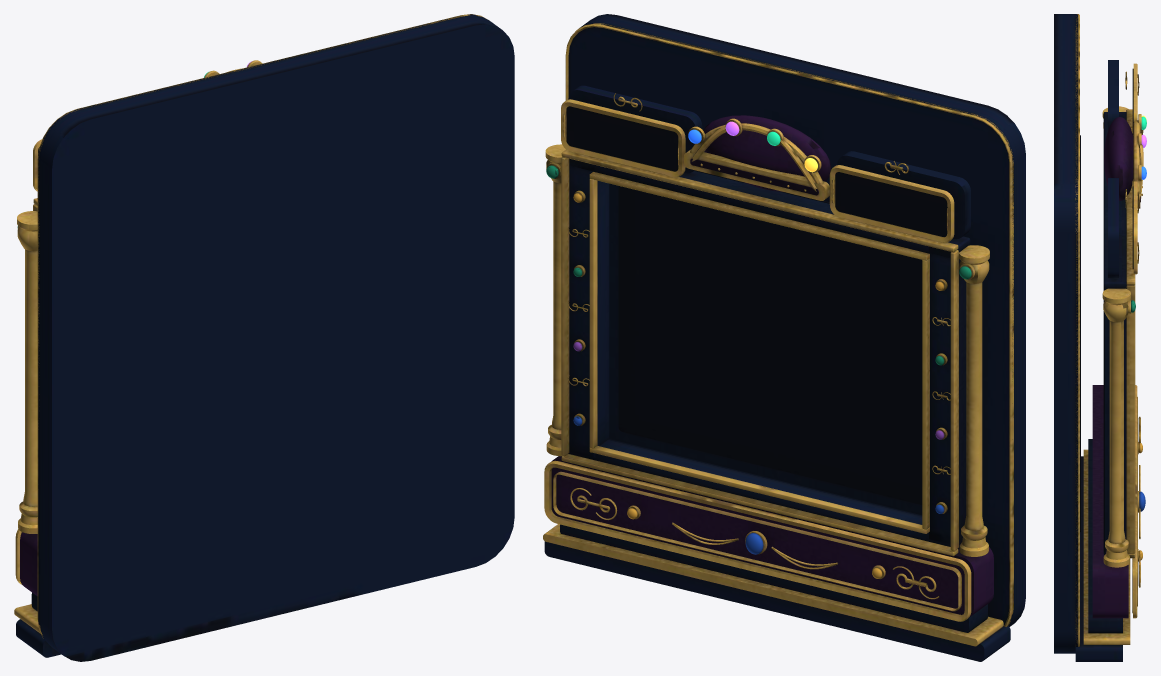
3 renders of one model, left to right at view 1: azimuth 30°, elevation 25°; view 2: azimuth 150°, elevation 25°; view 3: azimuth 270°, elevation 25°, orthographic. The views are drawn at different scales.
Parts seen in each view (by area): view 1: Deep_navy_velvet, Polished_treasury_gold, Royal_aubergine_velvet; view 2: Deep_navy_velvet, Blank_display_enamel, Polished_treasury_gold, Royal_aubergine_velvet; view 3: Deep_navy_velvet, Polished_treasury_gold, Royal_aubergine_velvet, Blank_display_enamel.
Part boxes in pixels (x1,y1,x2,y2): Deep_navy_velvet: (16,14,514,661); Polished_treasury_gold: (14,14,486,638); Royal_aubergine_velvet: (20,532,37,596); Deep_navy_velvet: (544,14,1025,661); Blank_display_enamel: (566,106,947,504); Polished_treasury_gold: (543,23,1013,646); Royal_aubergine_velvet: (551,115,993,617); Deep_navy_velvet: (1054,14,1126,661); Polished_treasury_gold: (1075,14,1143,646); Royal_aubergine_velvet: (1092,117,1140,618); Blank_display_enamel: (1080,68,1133,532).
Size of the model in its own units: 9.3 by 10.4 by 1.86.
12 materials, 8 textured.
